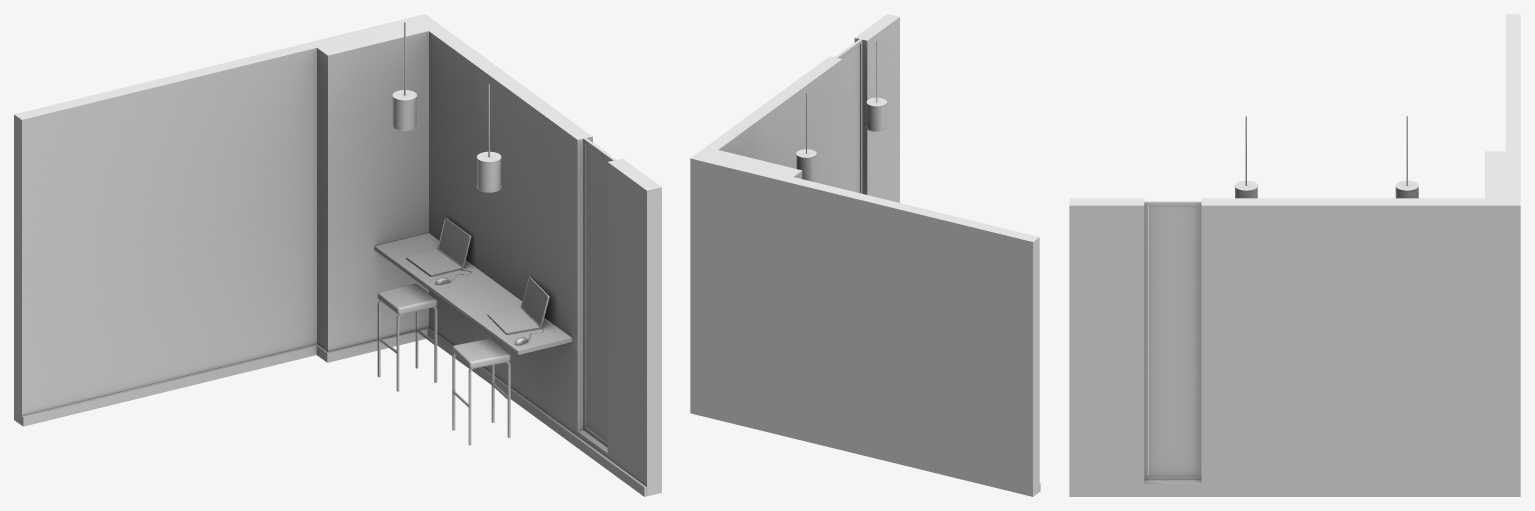
File: office_bar.glb
3 renders of one model, left to right at view 1: azimuth 30°, elevation 25°; view 2: azimuth 150°, elevation 25°; view 3: azimuth 270°, elevation 25°, orthographic. The views are drawn at different scales.
Parts seen in each view (by area): view 1: OfficeBar; view 2: OfficeBar; view 3: OfficeBar.
Part boxes in pixels (<box>): OfficeBar: <box>14,14,661,496</box>; OfficeBar: <box>690,14,1040,496</box>; OfficeBar: <box>1069,14,1520,496</box>.
Bounding box in the file's own units: 3.67 × 3.08 × 3.66.
Materials: 1 (1 with a texture image).
